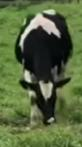cow: (15, 9, 73, 126)
